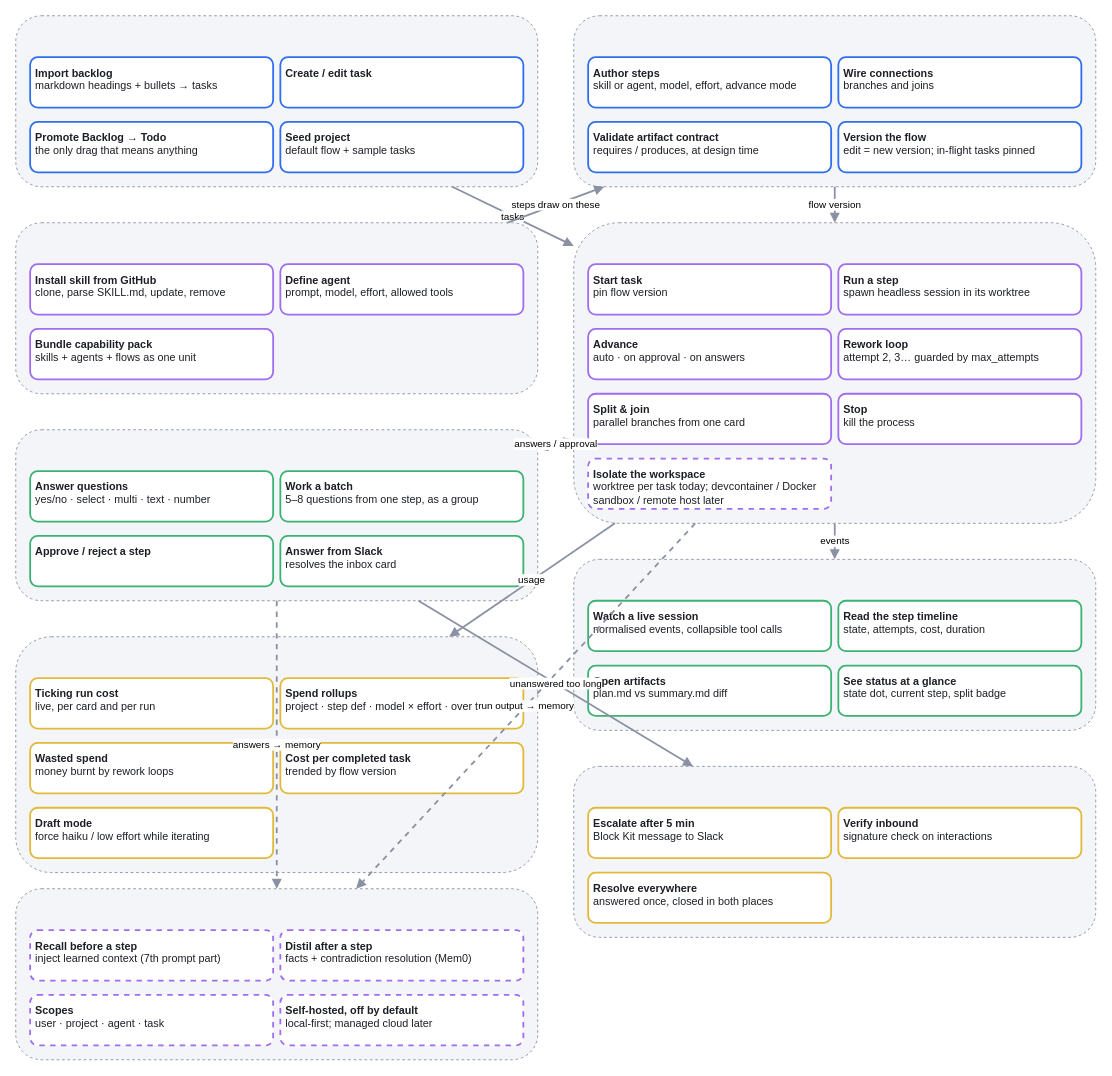
Image size: 1112x1076. Some labels were removed from this diagram. The shapes that lost their labels are listed below. From the top down, each one's box as (x1, y1, x2, y2) in pixels, then its label:
(15, 15, 538, 187): Intake
(573, 15, 1096, 187): Flow design
(15, 222, 538, 394): Capability library
(573, 222, 1096, 523): Execution dashed = not in v1
(15, 429, 538, 601): Human in the loop
(573, 558, 1096, 730): Observability
(15, 636, 538, 873): Cost & control
(573, 765, 1096, 937): Escalation
(15, 888, 538, 1060): Memory additive · dashed = optional
